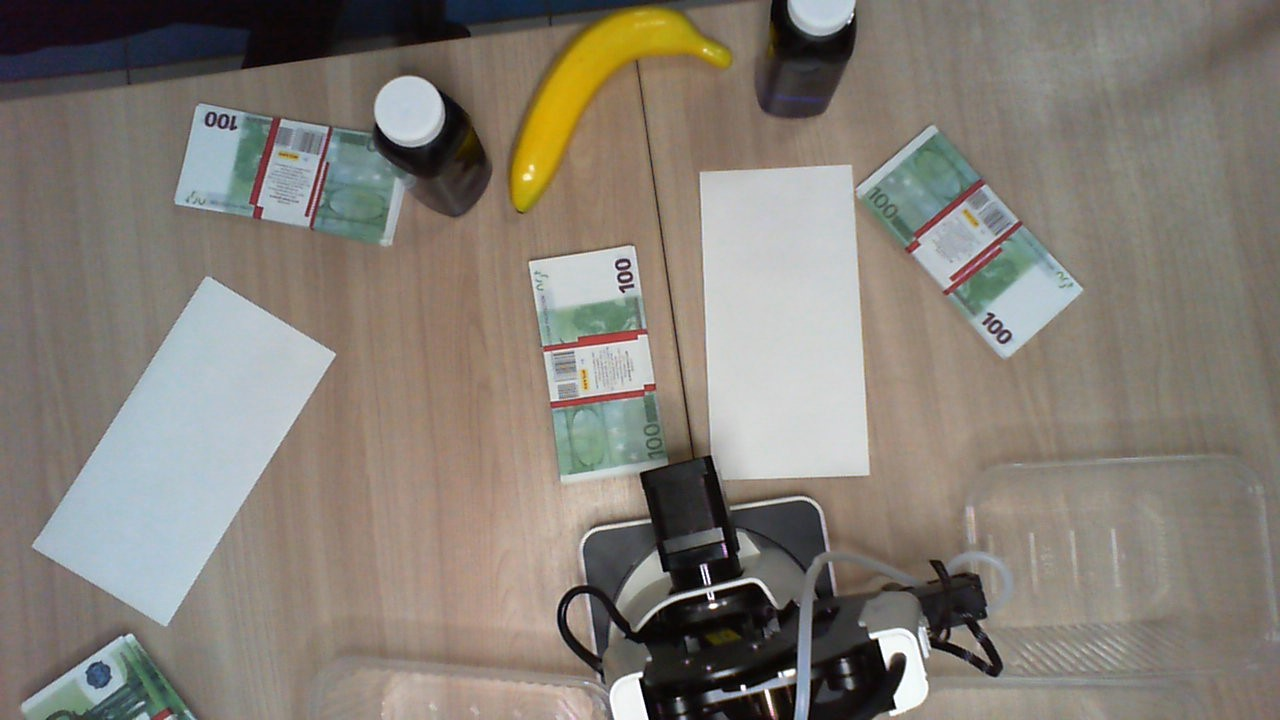banana: (499, 2, 733, 218)
bottle: (373, 79, 460, 175), (777, 1, 859, 55)
convert: (30, 273, 339, 627), (703, 162, 867, 485)
money: (853, 118, 1085, 359), (519, 238, 668, 489), (170, 106, 407, 248), (21, 633, 201, 720)
